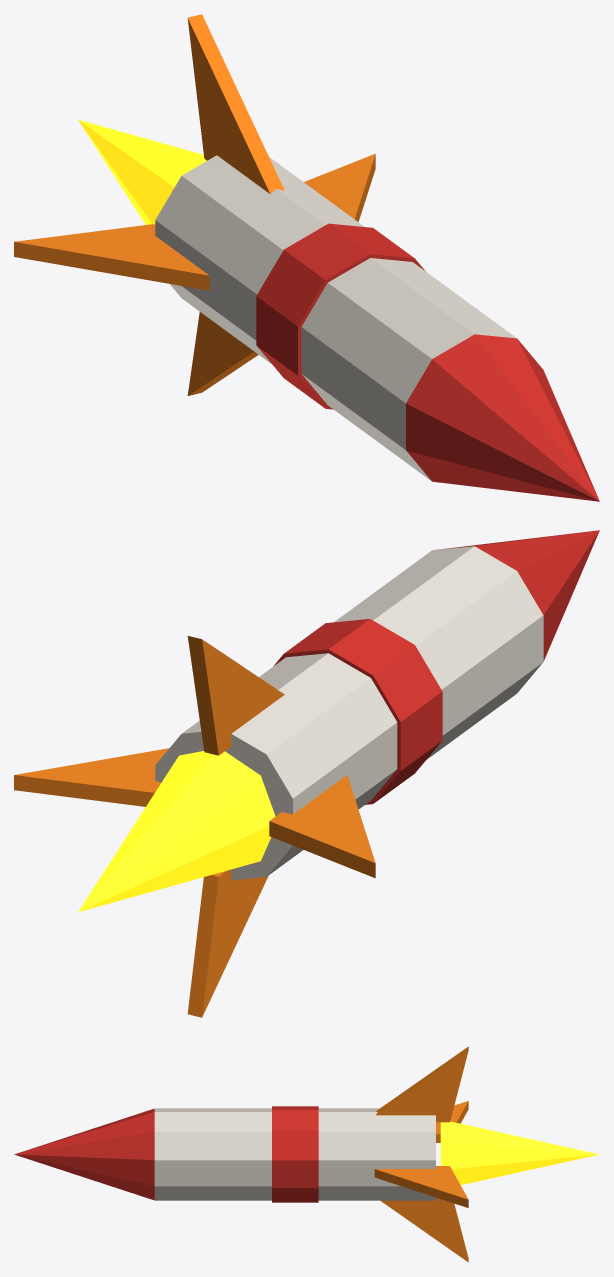
The model's file is rocket.glb.
3 renders of one model, top to bottom at view 1: azimuth 30°, elevation 25°; view 2: azimuth 150°, elevation 25°; view 3: azimuth 270°, elevation 25°, orthographic. The views are drawn at different scales.
Visible parts, largest first — view 1: Rocket; view 2: Rocket; view 3: Rocket.
Part boxes in pixels (bbox=[...]): Rocket: bbox=[14, 14, 599, 501]; Rocket: bbox=[14, 530, 599, 1017]; Rocket: bbox=[14, 1046, 599, 1262].
Bounding box in the file's own units: 0.5 × 0.5 × 1.25.
